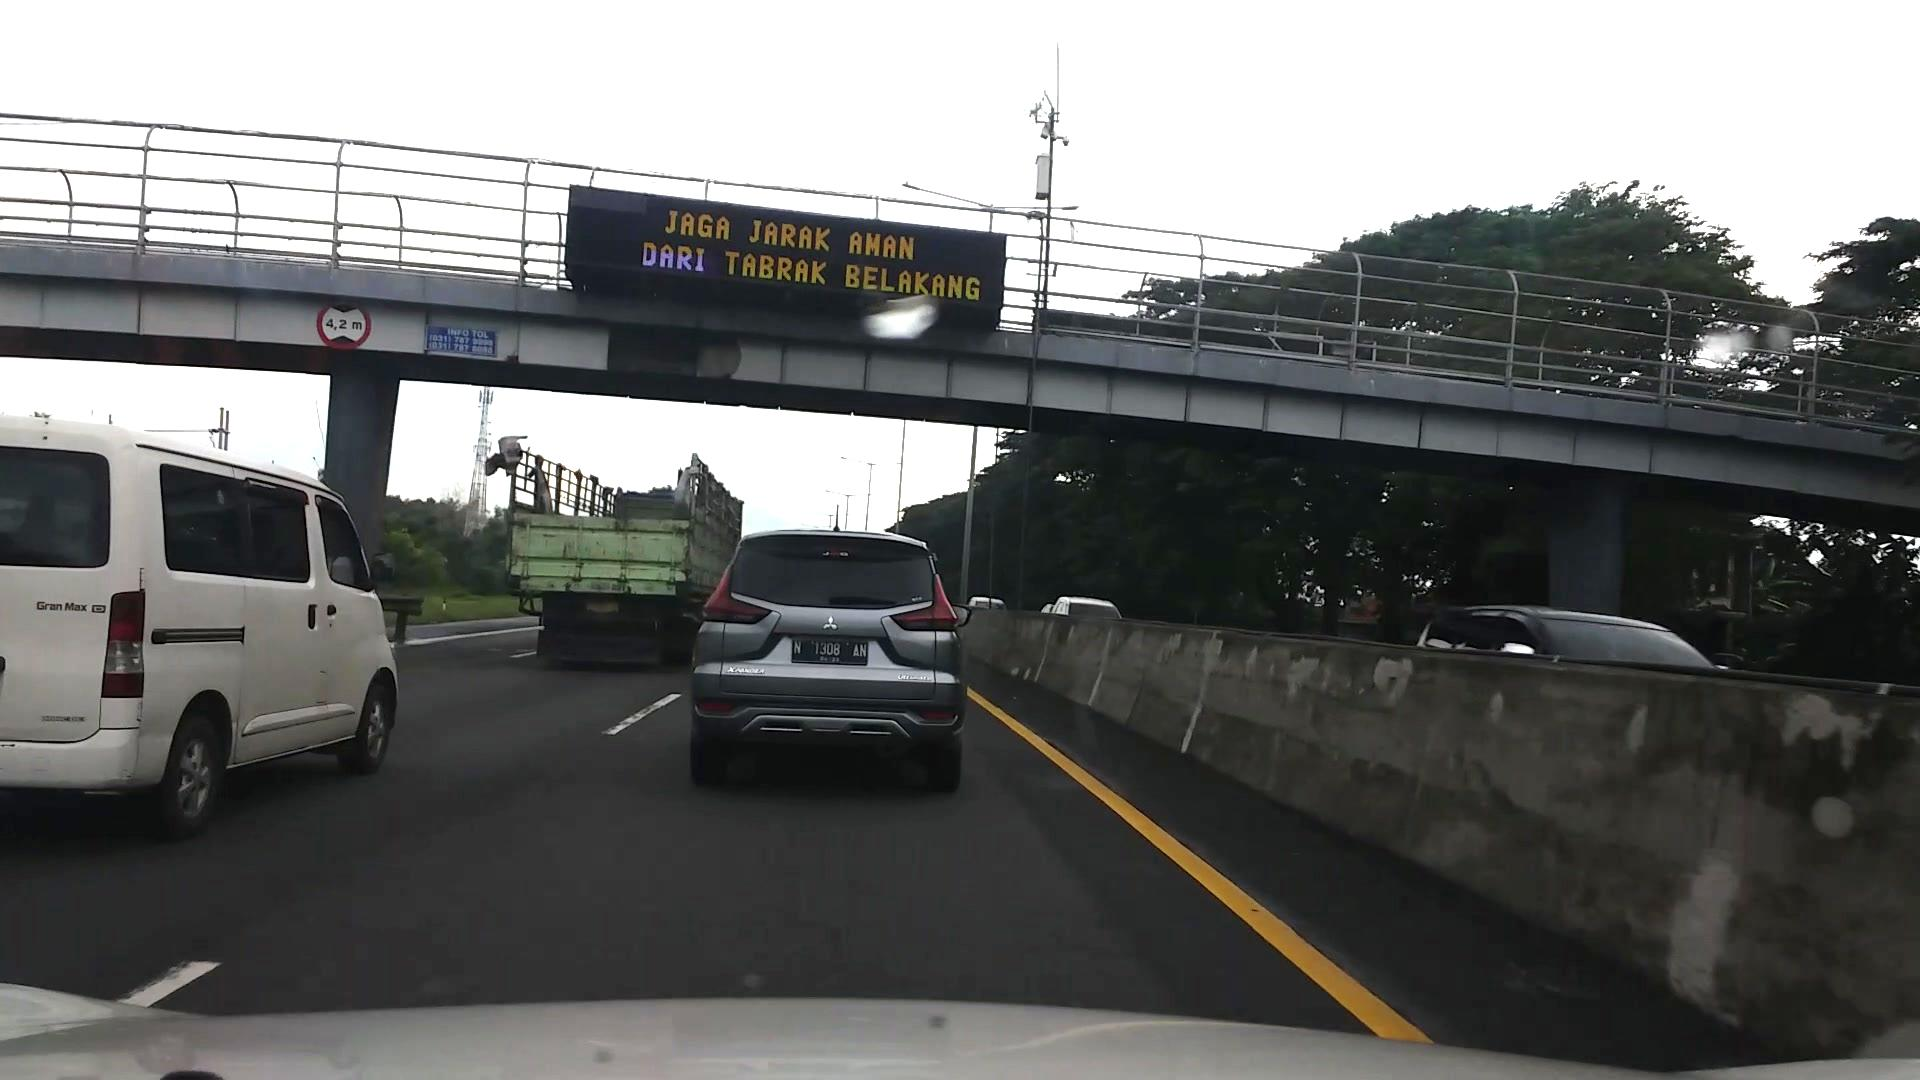plate_positive: (791, 636, 869, 665)
